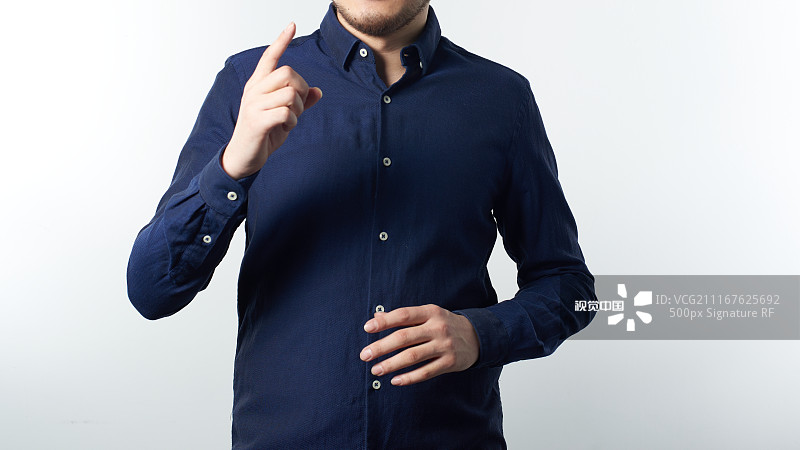no-phone: (215, 11, 334, 193), (345, 285, 492, 397)
